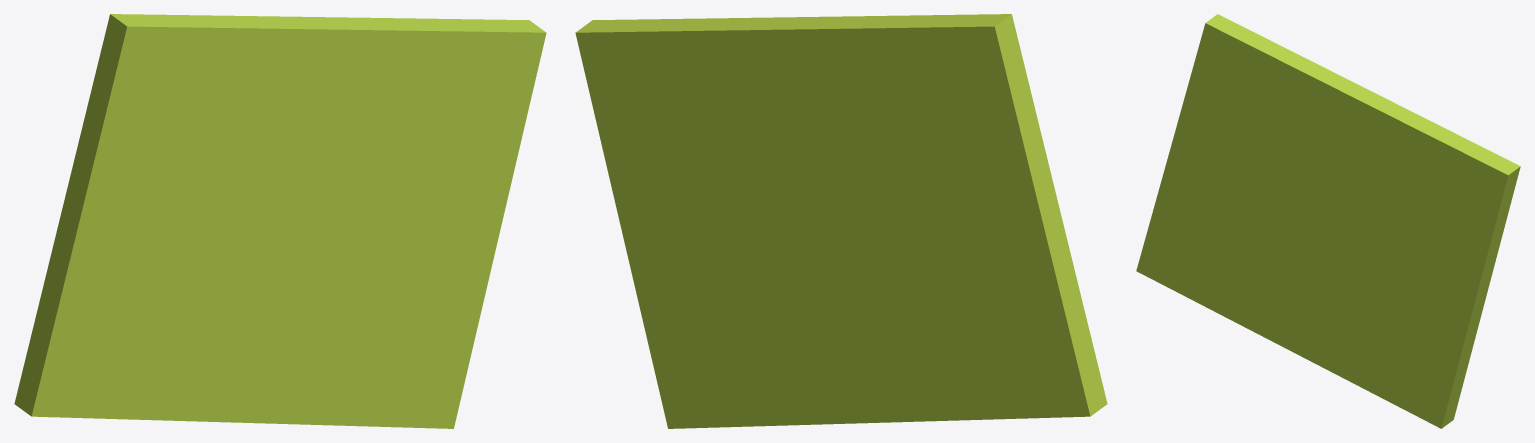
3 renders of one model, left to right at view 1: azimuth 30°, elevation 25°; view 2: azimuth 150°, elevation 25°; view 3: azimuth 330°, elevation 25°, orthographic. The views are drawn at different scales.
Visible parts, largest first — view 1: osm-way27917482-F2; view 2: osm-way27917482-F2; view 3: osm-way27917482-F2.
Boxes of the visible parts, x1,y1,x2,y2 form: osm-way27917482-F2: (14, 14, 546, 428); osm-way27917482-F2: (575, 14, 1107, 428); osm-way27917482-F2: (1136, 14, 1520, 428).
Bounding box in the file's own units: 2.6 × 2.32 × 0.15.
